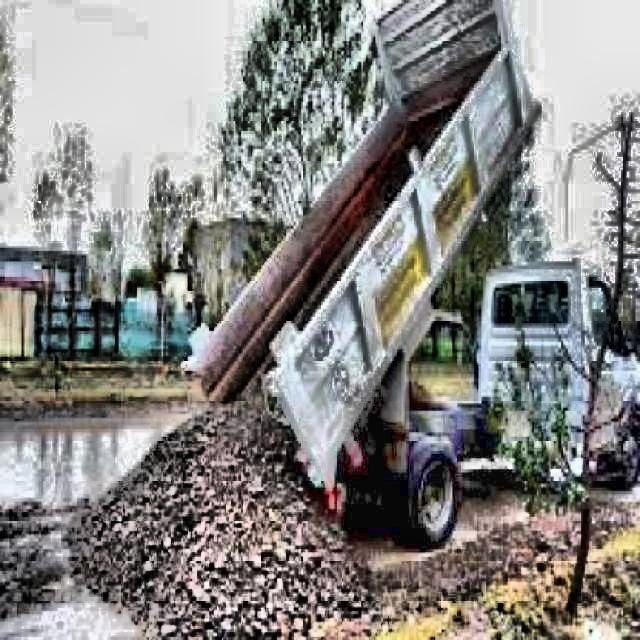dump_truck: (192, 0, 640, 542)
